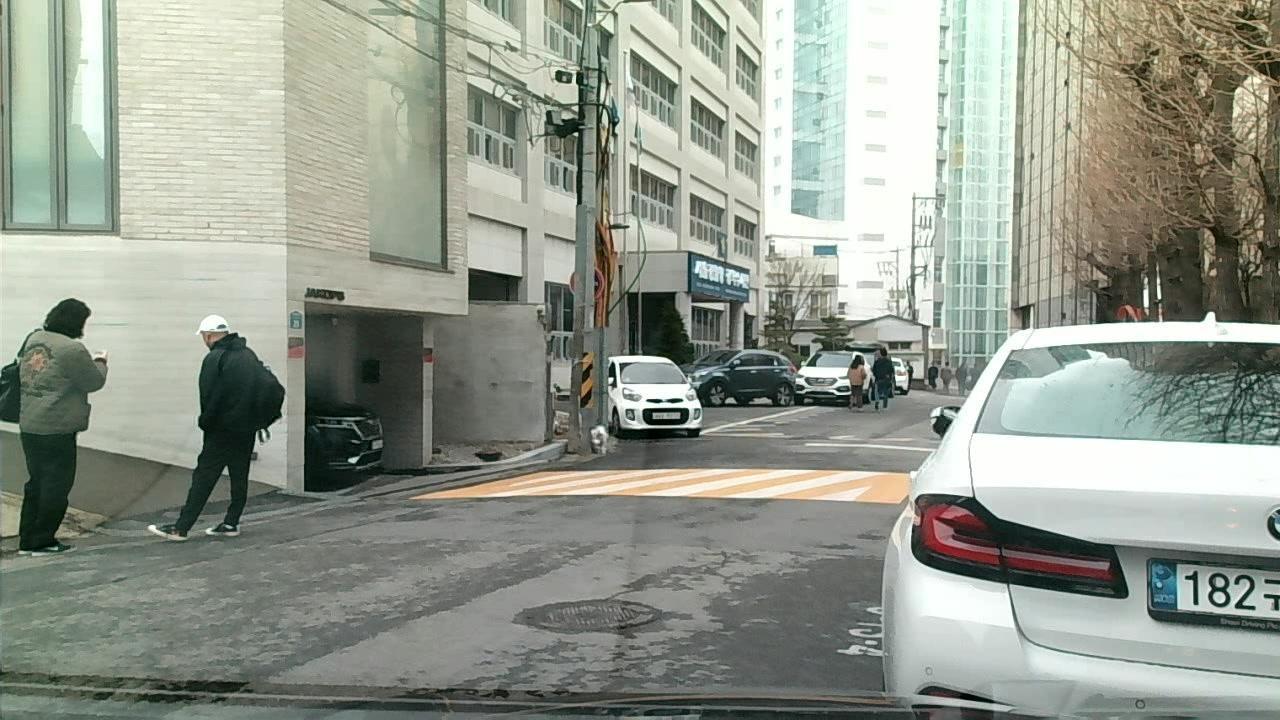banner: (701, 548, 732, 583), (588, 423, 611, 456), (603, 584, 638, 602)
